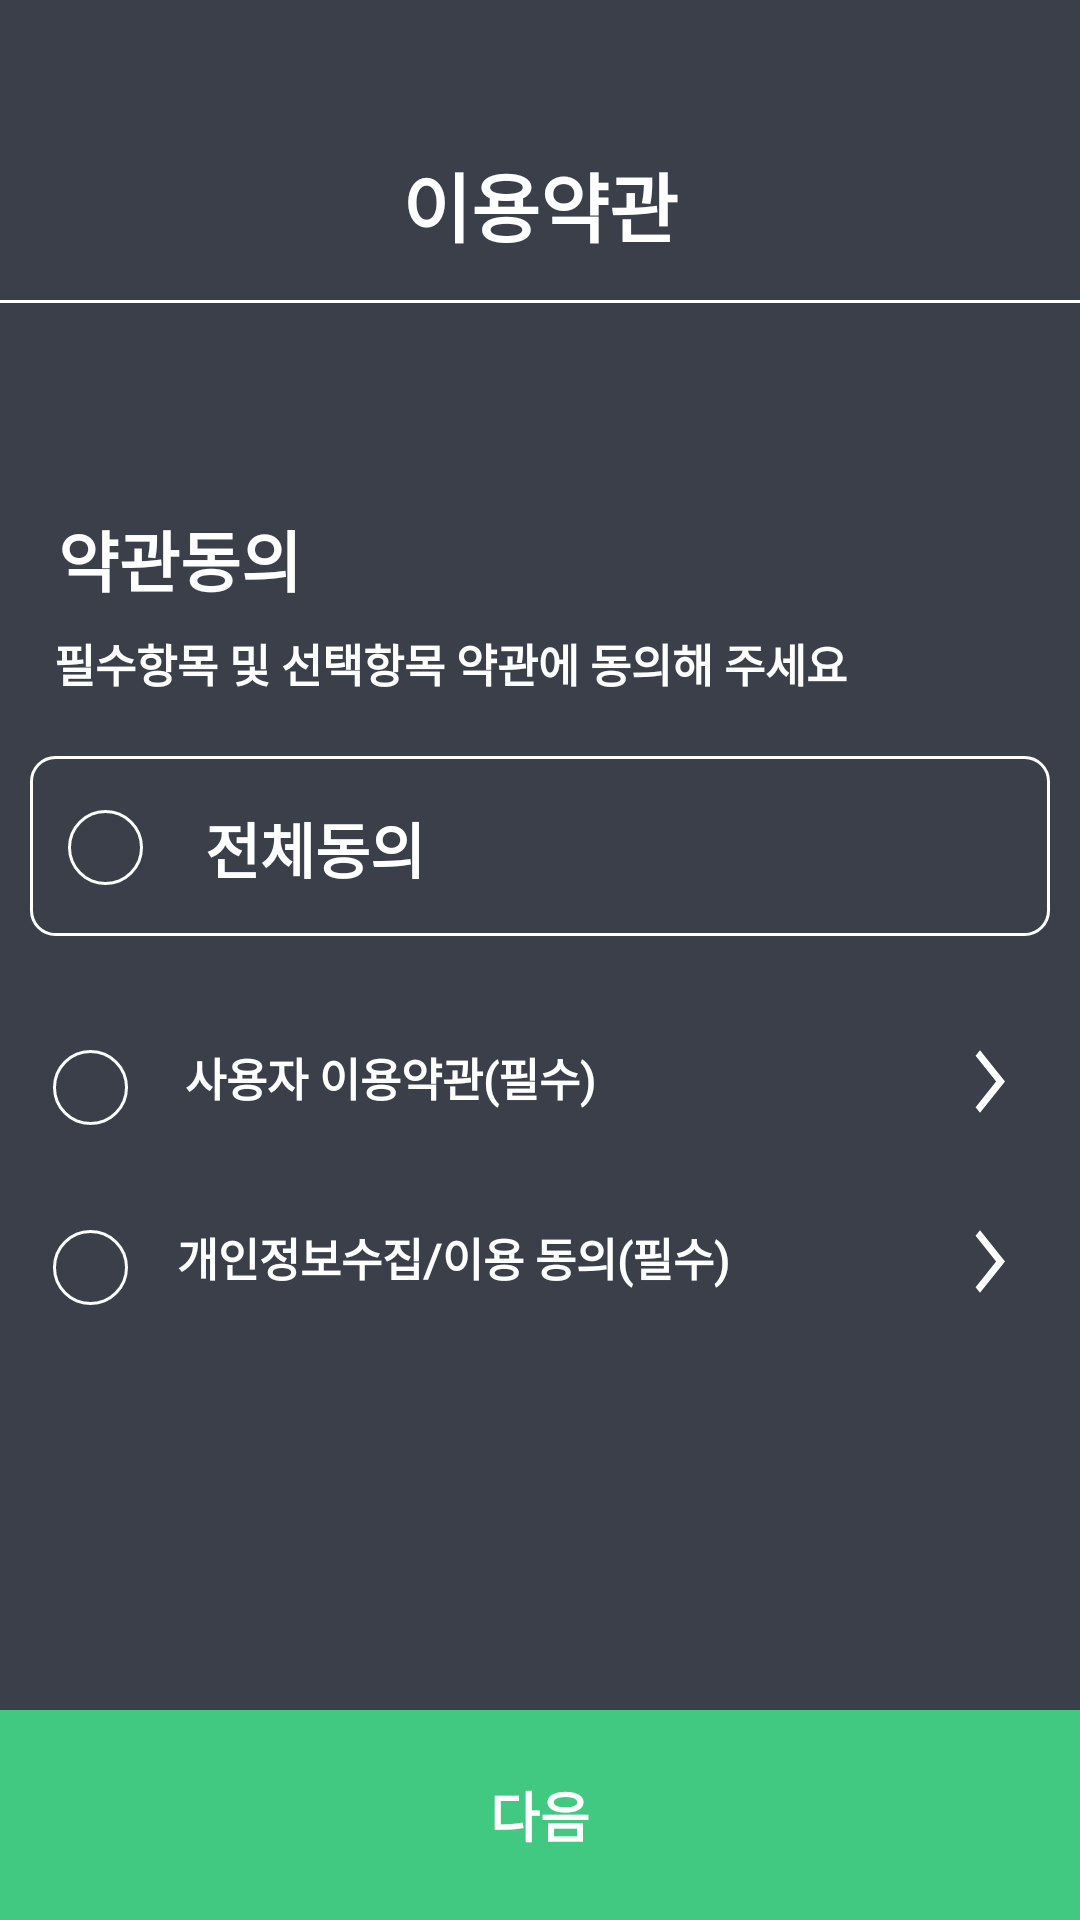

Screen size 1080 x 1920. Icon name, then its box in pixels as bbox(x1, y1, x2, y2):
arrow forward: bbox(975, 1050, 1005, 1113), bbox(975, 1230, 1005, 1293)
